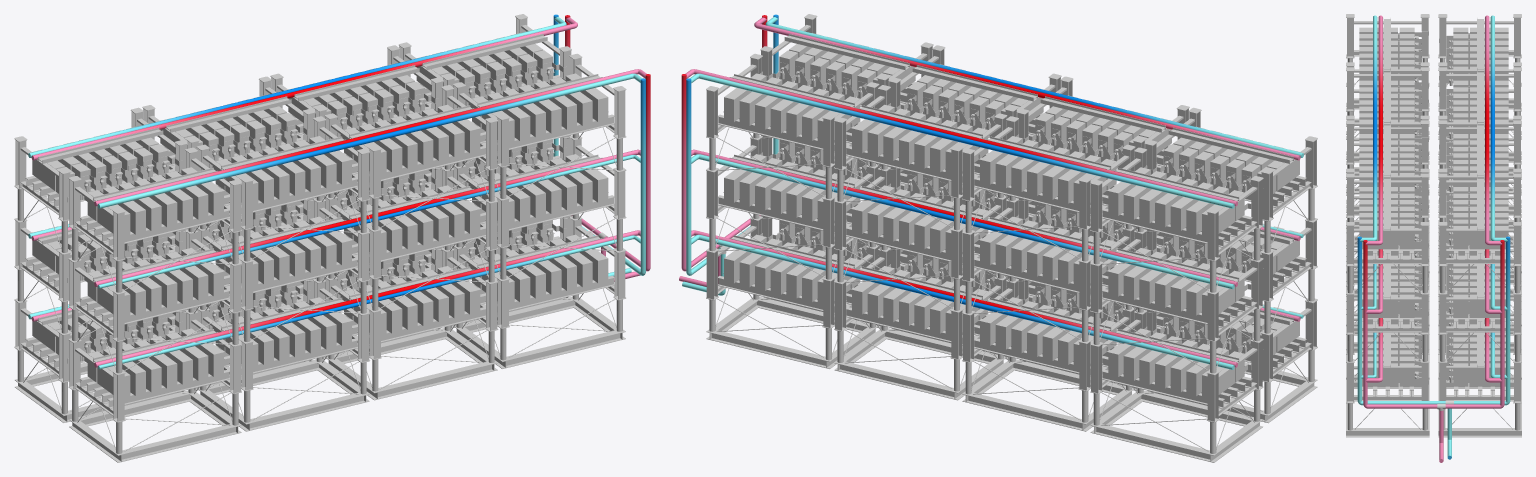
File: STATCOM_MMC.gltf
3 views of the same model, side by side, from view 1: azimuth 30°, elevation 25°; view 2: azimuth 150°, elevation 25°; view 3: azimuth 270°, elevation 25° (orthographic). The views are drawn at different scales.
Parts seen in each view (by area): view 1: STATCOM_MMC, STATCOM_MMC_1257_Flow01, STATCOM_MMC_1258_Flow02; view 2: STATCOM_MMC, STATCOM_MMC_1257_Flow01, STATCOM_MMC_1258_Flow02; view 3: STATCOM_MMC, STATCOM_MMC_1258_Flow02, STATCOM_MMC_1257_Flow01.
Boxes of the visible parts, box(x1,y1,x2,y2) form: STATCOM_MMC: box(14, 14, 626, 462); STATCOM_MMC_1257_Flow01: box(28, 14, 645, 369); STATCOM_MMC_1258_Flow02: box(31, 15, 650, 367); STATCOM_MMC: box(706, 14, 1317, 462); STATCOM_MMC_1257_Flow01: box(682, 14, 1303, 369); STATCOM_MMC_1258_Flow02: box(679, 15, 1300, 367); STATCOM_MMC: box(1346, 14, 1521, 437); STATCOM_MMC_1258_Flow02: box(1363, 15, 1504, 462); STATCOM_MMC_1257_Flow01: box(1357, 15, 1510, 459).
Size of the model in its own units: 13.03 by 5.32 by 4.
Materials: 3 (2 with a texture image).
